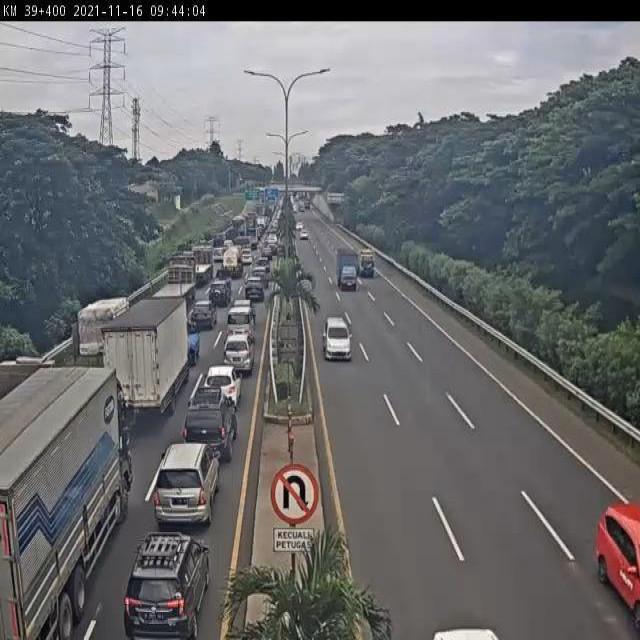car: (120, 528, 214, 640), (153, 439, 219, 532), (185, 387, 237, 462), (200, 364, 244, 412), (322, 306, 355, 362), (222, 333, 254, 375), (227, 306, 257, 342), (192, 300, 218, 328), (207, 279, 229, 308), (244, 277, 265, 304)
small truck: (99, 294, 187, 418)
truck-l-: (149, 255, 201, 312), (189, 244, 216, 287)
truck-m-: (0, 357, 126, 640), (73, 295, 134, 376), (333, 243, 364, 293)
